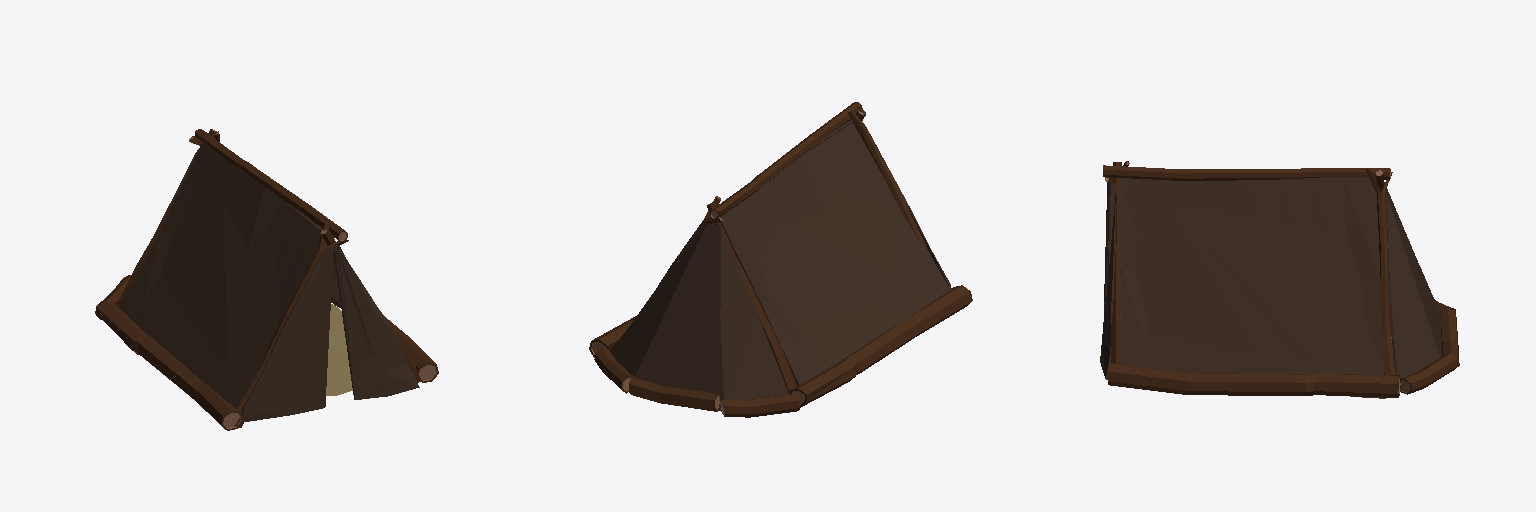
3 renders of one model, left to right at view 1: azimuth 30°, elevation 25°; view 2: azimuth 150°, elevation 25°; view 3: azimuth 270°, elevation 25°, orthographic.
Visible parts, largest first — view 1: LPTentV1.4; view 2: LPTentV1.4; view 3: LPTentV1.4.
Boxes of the visible parts, <box> form: LPTentV1.4: <box>95,129,438,430</box>; LPTentV1.4: <box>589,102,972,417</box>; LPTentV1.4: <box>1100,161,1459,398</box>.
Bounding box in the file's own units: 3.16 × 2.29 × 4.1.
4 materials, 4 textured.